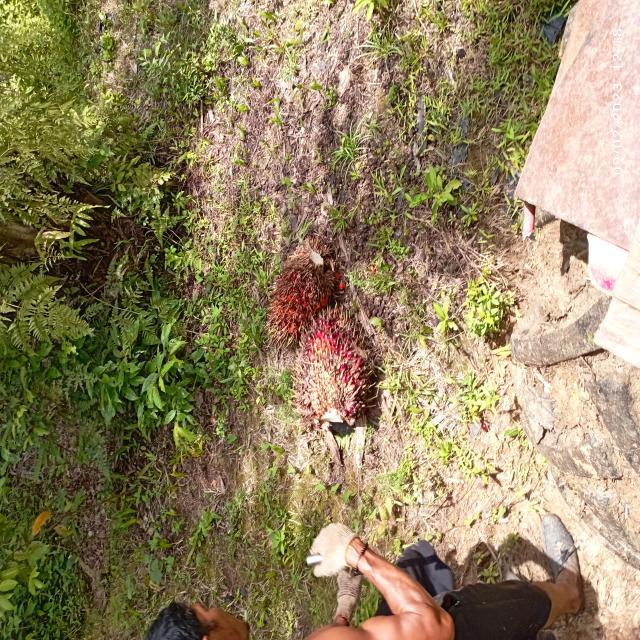fraksi 3: (268, 308, 394, 427)
fraksi 4: (246, 234, 354, 344)
